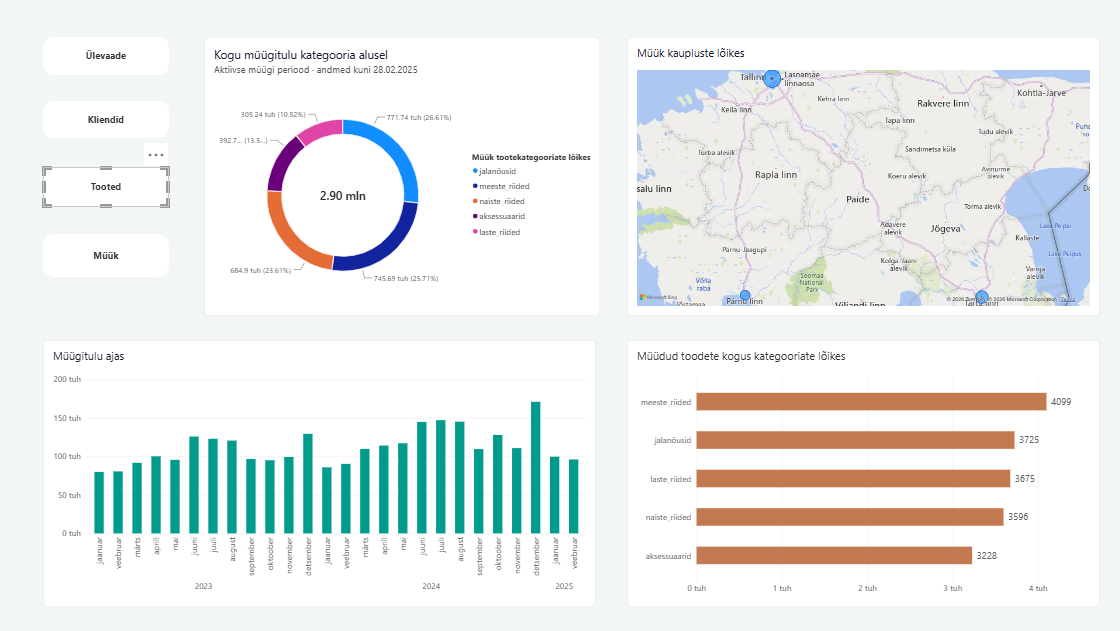

The dashboard page shown, as its layout file describes it:
{"tool":"powerbi","page":{"name":"week 10","canvas":[1920,1080],"ordinal":0},"visuals":[{"type":"textbox","box":[62.5,85,412.5,87.5],"z":0},{"type":"map","title":"Müük kaupluste lõikes","fields":{"Category":["public sales.store_location"],"Size":["public sales.Kogu müügitulu"]},"box":[1074.7,63.3,809.4,477.4],"z":1000},{"type":"donutChart","title":"Kogu müügitulu kategooria alusel","fields":{"Category":["public products.category"],"Y":["public sales.Kogu müügitulu"]},"box":[350.8,63.3,678,477.4],"z":2000},{"type":"columnChart","title":"Müügitulu ajas","fields":{"Category":["public sales.sale_date.Variatsioon.Kuupäeva hierarhia.Aasta","public sales.sale_date.Variatsioon.Kuupäeva hierarhia.Kuu"],"Y":["public sales.Kogu müügitulu"]},"box":[75.3,581.8,946.3,456.9],"z":3000},{"type":"clusteredBarChart","title":"Müügitulu müügikohtade lõikes (€)","fields":{"Category":["public sales.Müügikoht"],"Y":["public sales.Kogu müügitulu"]},"box":[1074.7,581.8,807.7,458.6],"z":4000},{"type":"actionButton","box":[75.3,172.8,215.6,63.3],"z":6000},{"type":"actionButton","box":[75.3,285.8,215.6,68.4],"z":7000},{"type":"actionButton","box":[75.3,400.4,215.6,73.6],"z":8000},{"type":"actionButton","box":[75.3,63.3,215.6,65],"z":9000}]}

Visuals, with their boxes on the page's 1920x1080 design canvas (x1, y1, x2, y2). These are canvas units, not pixel positions in the 1120x631 screenshot, which may show the page scaled, cropped or inside an application window:
textbox: (62,85,475,172)
"Müük kaupluste lõikes" map: (1075,63,1884,541)
"Kogu müügitulu kategooria alusel" donutChart: (351,63,1029,541)
"Müügitulu ajas" columnChart: (75,582,1022,1039)
"Müügitulu müügikohtade lõikes (€)" clusteredBarChart: (1075,582,1882,1040)
actionButton: (75,173,291,236)
actionButton: (75,286,291,354)
actionButton: (75,400,291,474)
actionButton: (75,63,291,128)
